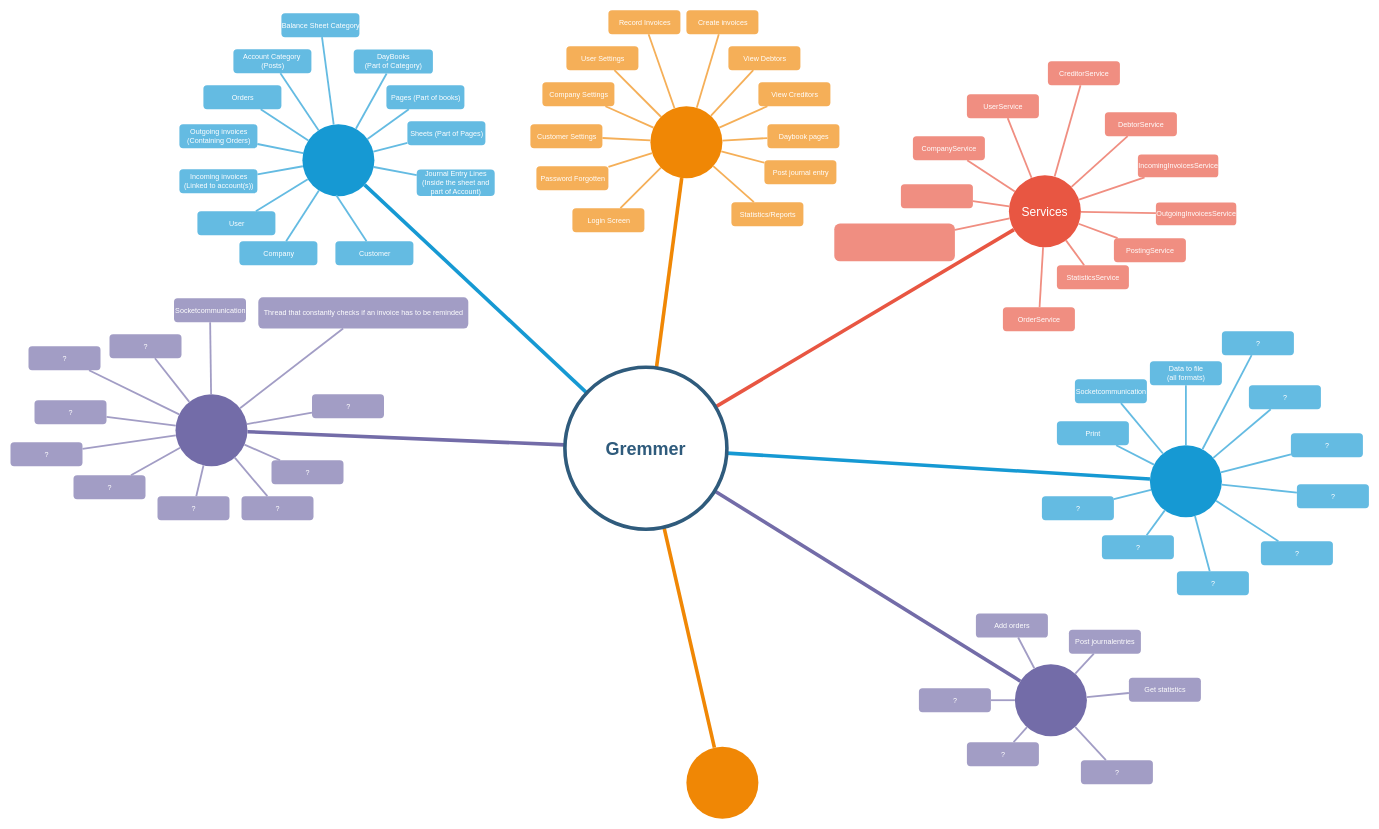
Some shapes in this 1379 by 829 pixel diagram are drawn without their labels. The centre of each missing label's shape, as x and y in pixels:
"API" belongs at (x=1051, y=700).
"Client" belongs at (x=1186, y=481).
"CustomerService" belongs at (x=937, y=196).
"Data" belongs at (x=338, y=160).
"Mailservice (Send reminders, pass forgotten activation and all that)" belongs at (x=894, y=242).
"Server" belongs at (x=211, y=430).
"UI" belongs at (x=686, y=142).
"Web" belongs at (x=722, y=782).
